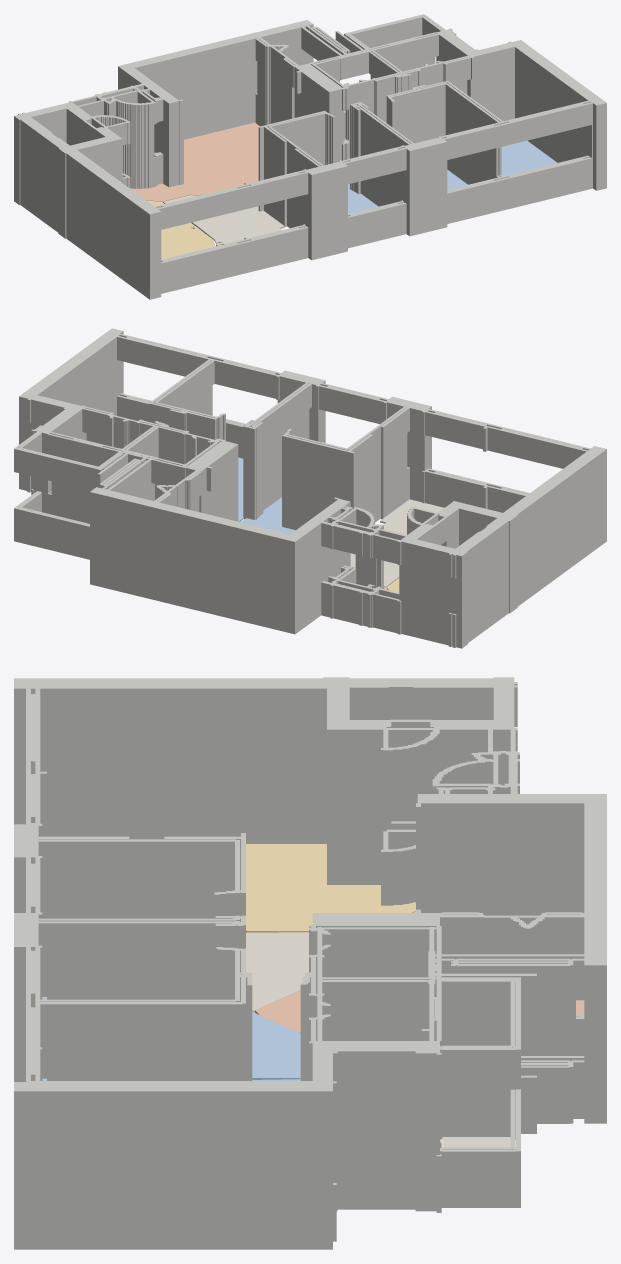
3 views of the same model, one above another, from view 1: azimuth 30°, elevation 25°; view 2: azimuth 150°, elevation 25°; view 3: azimuth 270°, elevation 25° (orthographic). The views are drawn at different scales.
Visible parts, largest first — view 1: walls, room:kitchen:13, room:other:9, room:living:7, room:bedroom:12, room:bedroom:10; view 2: walls, room:other:9, room:bedroom:10; view 3: walls, room:living:7, room:other:9, room:bedroom:10, room:kitchen:13, room:other:14.
Boxes of the visible parts, x1=… form: walls: x1=14, y1=14, x2=606, y2=299; room:kitchen:13: x1=130, y1=122, x2=259, y2=202; room:other:9: x1=163, y1=195, x2=284, y2=245; room:living:7: x1=146, y1=200, x2=215, y2=259; room:bedroom:12: x1=501, y1=140, x2=557, y2=175; room:bedroom:10: x1=348, y1=184, x2=378, y2=213; walls: x1=14, y1=328, x2=606, y2=648; room:other:9: x1=350, y1=499, x2=444, y2=587; room:bedroom:10: x1=241, y1=497, x2=295, y2=534; walls: x1=14, y1=677, x2=606, y2=1249; room:living:7: x1=246, y1=844, x2=415, y2=932; room:other:9: x1=246, y1=932, x2=308, y2=1012; room:bedroom:10: x1=42, y1=997, x2=300, y2=1079; room:kitchen:13: x1=255, y1=912, x2=584, y2=1032; room:other:14: x1=442, y1=1137, x2=510, y2=1147.
Size of the model in its own units: 15.72 by 2.8 by 9.51.
